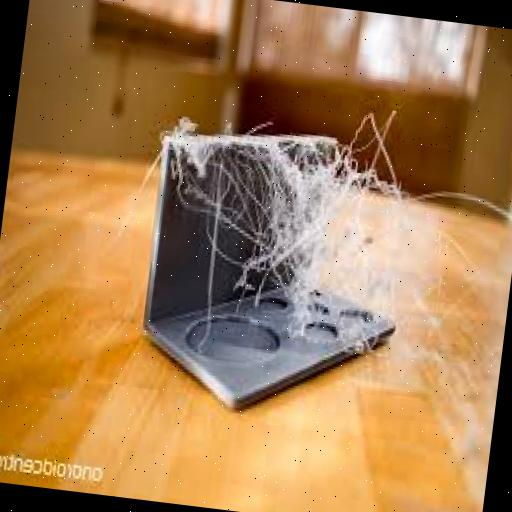spaghetti: (150, 108, 428, 358)
